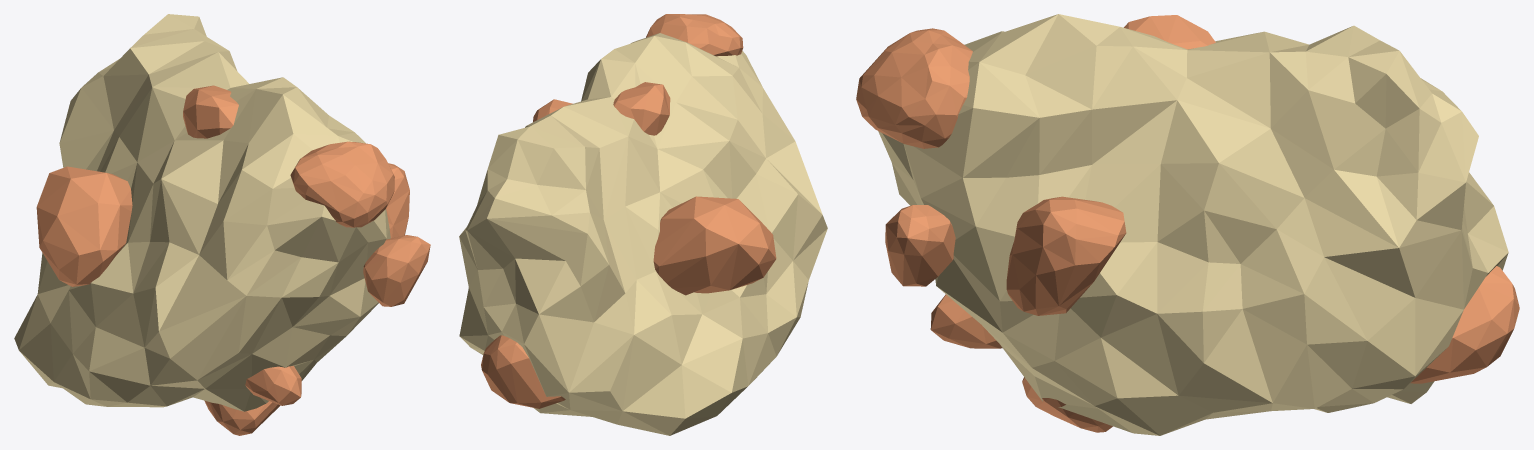
Rendered from StoneOre (19).fbx.
The picture shows the model from 3 angles, left to right: view 1: azimuth 30°, elevation 25°; view 2: azimuth 150°, elevation 25°; view 3: azimuth 270°, elevation 25°; orthographic projection. The views are drawn at different scales.
Visible parts, largest first — view 1: Asteroid306; view 2: Asteroid306; view 3: Asteroid306.
Boxes of the visible parts, box(x1,y1,x2,y2) form: Asteroid306: box(14, 14, 430, 435); Asteroid306: box(459, 14, 827, 435); Asteroid306: box(856, 14, 1519, 435).
Bounding box in the file's own units: 429 × 438 × 617.
